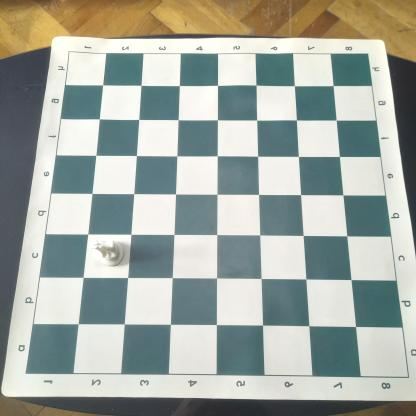white-knight: (89, 239, 125, 267)
